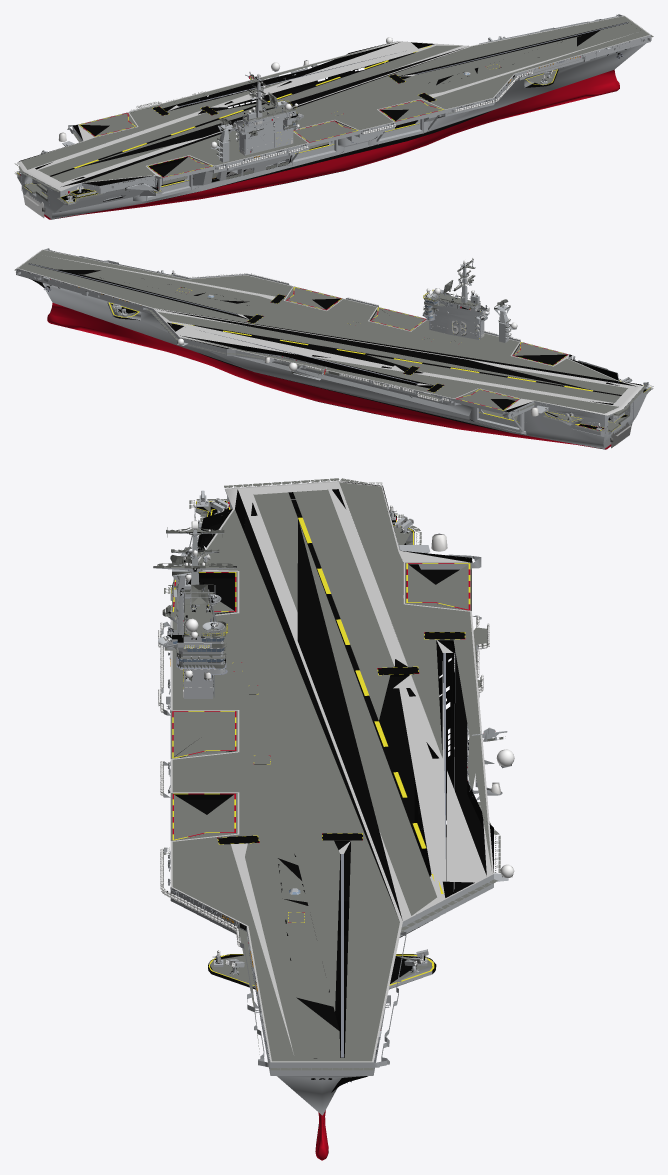
3 views of the same model, one above another, from view 1: azimuth 30°, elevation 25°; view 2: azimuth 150°, elevation 25°; view 3: azimuth 270°, elevation 25° (orthographic). The views are drawn at different scales.
Visible parts, largest first — view 1: Material2 (×7), Material3 (×4); view 2: Material2 (×7), Material3 (×4); view 3: Material2 (×6), Material3 (×4).
Part boxes in pixels (x1,y1,x2,y2): Material2 (×7): (14, 14, 653, 219); Material3 (×4): (17, 22, 627, 219); Material2 (×7): (14, 248, 653, 449); Material3 (×4): (19, 257, 650, 449); Material2 (×6): (153, 478, 513, 1157); Material3 (×4): (158, 500, 514, 1160).
Size of the model in its own units: 13322 by 2910 by 3453.
